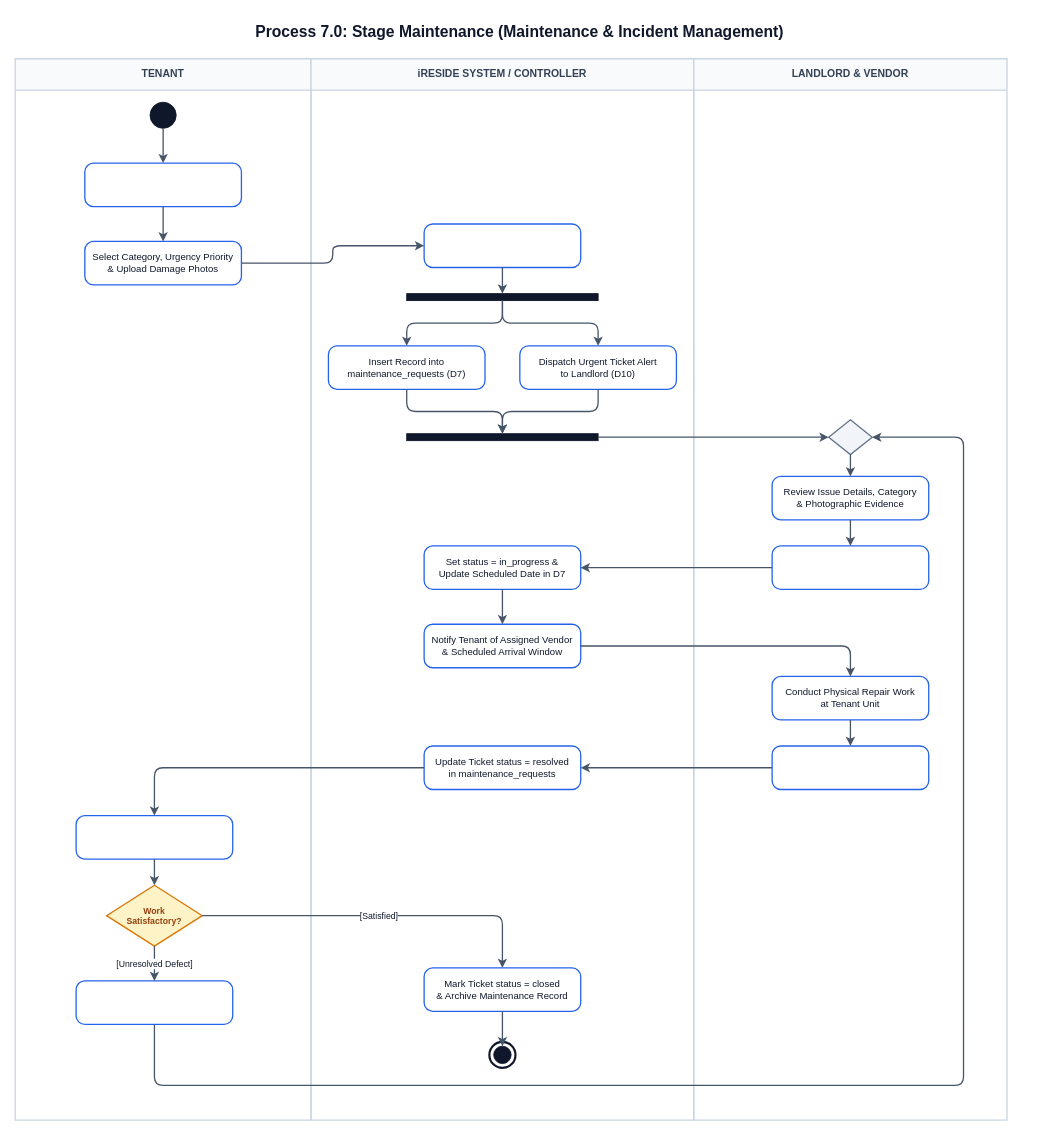
Some shapes in this 1040 by 1135 pixel diagram are drawn without their labels. Each missing label, with the centre of its shape:
Assign Technician/Contractor & Set Scheduled Service Date: pixel 850 567
Input Resolution Summary & Log Incurred Expense in D6: pixel 850 767
Inspect Repaired Defect & Confirm Resolution in Portal: pixel 154 837
Open Maintenance Form (/tenant/maintenance/new): pixel 163 184
Request Rework with Follow-up Notes & Reopen Status: pixel 154 1002
Submit Maintenance Ticket to Controller API: pixel 502 245
